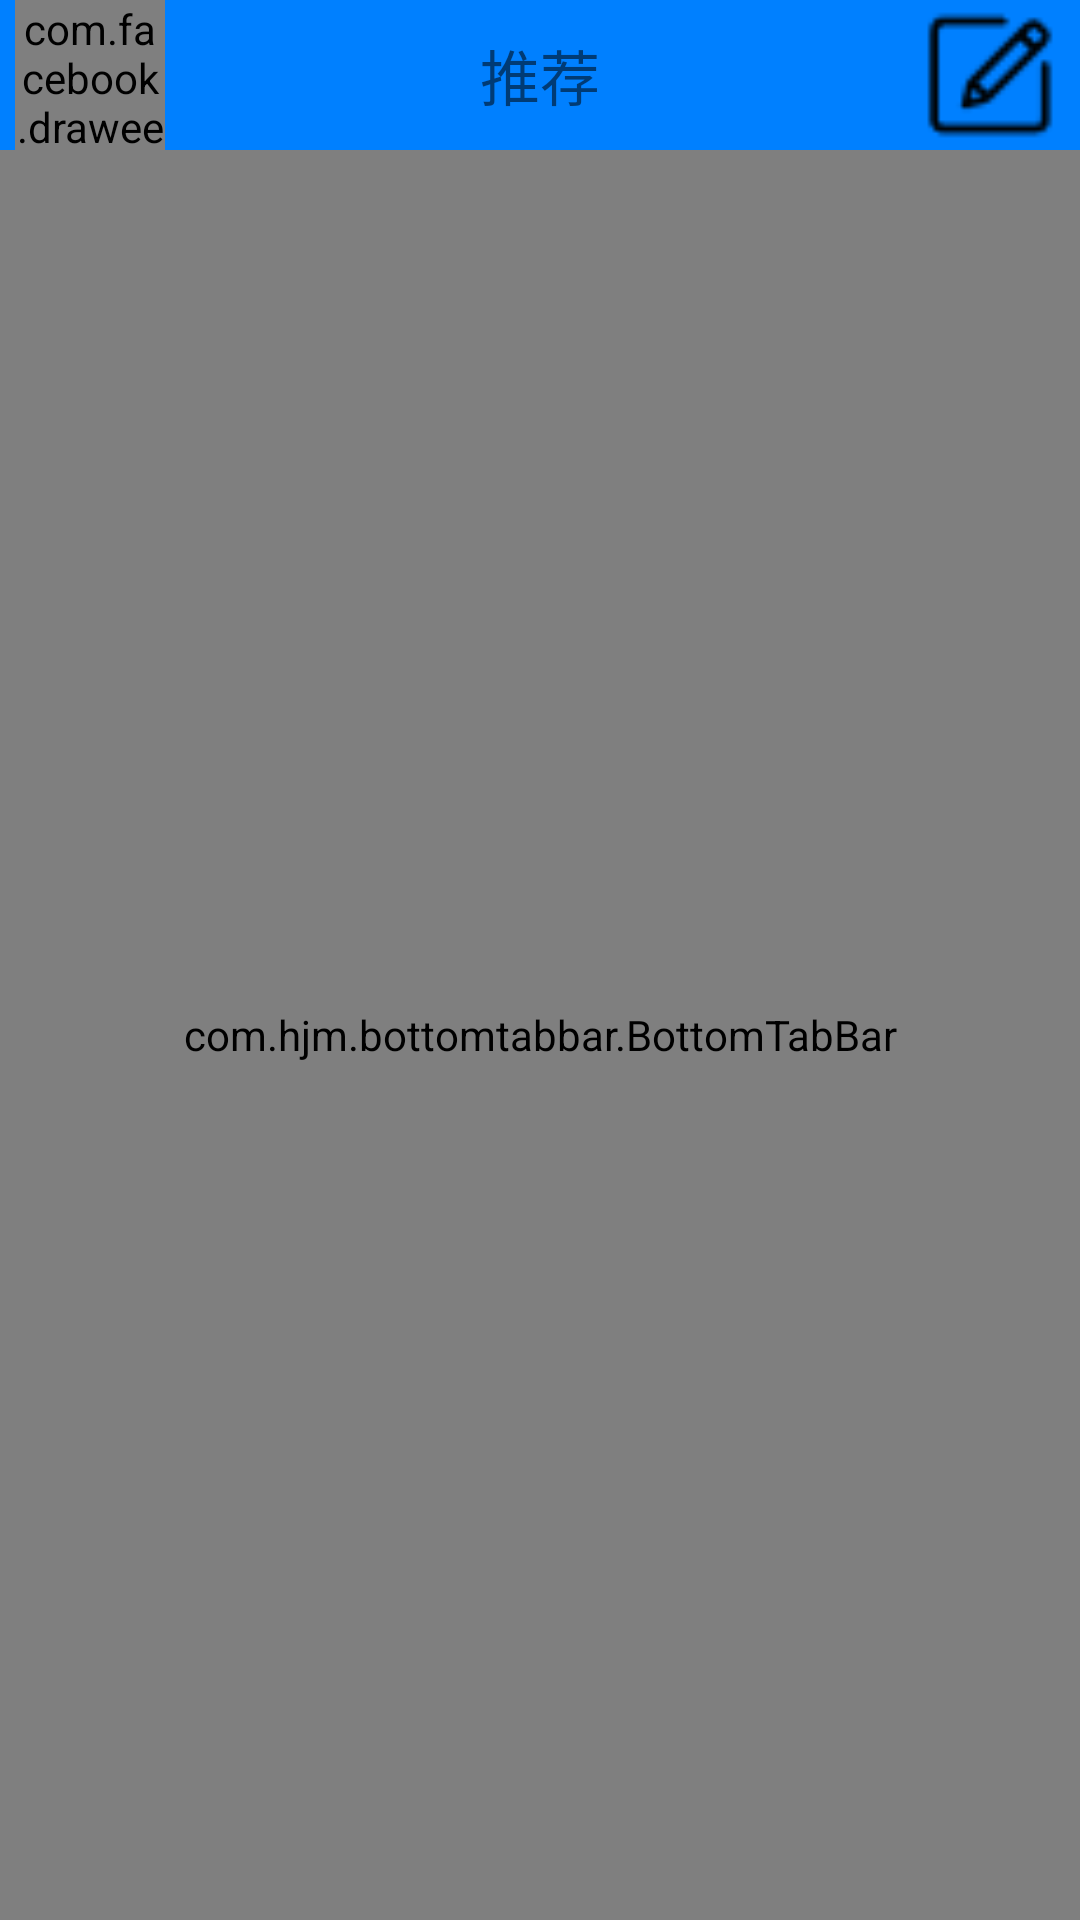

Icon bounding boxes for this 1080px×1920px phone screenshot, format (x1, y1, x2, y2):
redit: (927, 13, 1053, 137)
